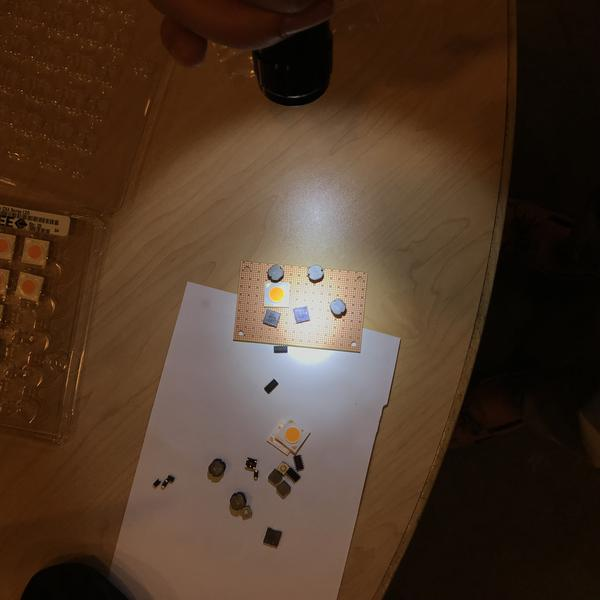board: (232, 259, 368, 355)
